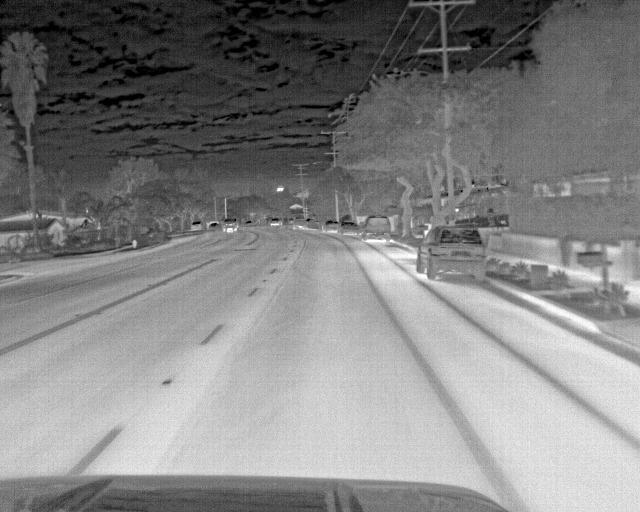car: (416, 223, 490, 285), (361, 214, 393, 243), (337, 218, 360, 237), (319, 218, 339, 235), (222, 218, 238, 235), (189, 219, 206, 233), (269, 213, 283, 227)
